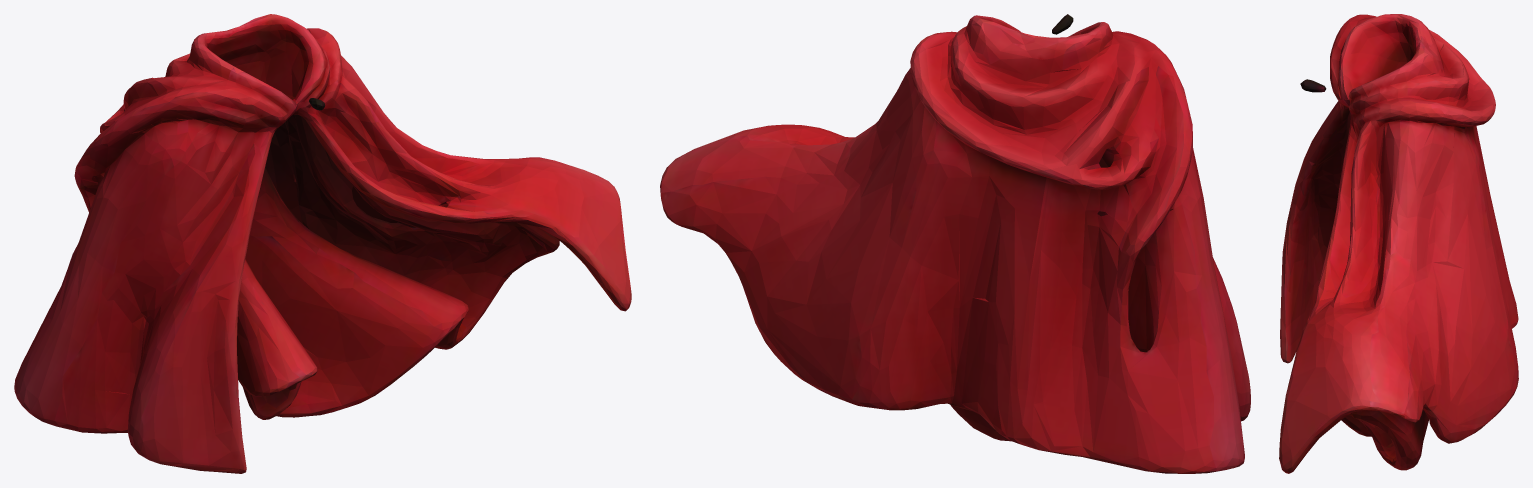
File: red_cape.glb
3 views of the same model, side by side, from view 1: azimuth 30°, elevation 25°; view 2: azimuth 150°, elevation 25°; view 3: azimuth 270°, elevation 25° (orthographic). The views are drawn at different scales.
Visible parts, largest first — view 1: geometry_0; view 2: geometry_0; view 3: geometry_0.
Boxes of the visible parts, box(x1,y1,x2,y2) form: geometry_0: box(14, 14, 631, 473); geometry_0: box(660, 14, 1250, 473); geometry_0: box(1279, 14, 1518, 473).
Bounding box in the file's own units: 0.9 × 0.6112 × 0.3611.
Materials: 1 (1 with a texture image).
